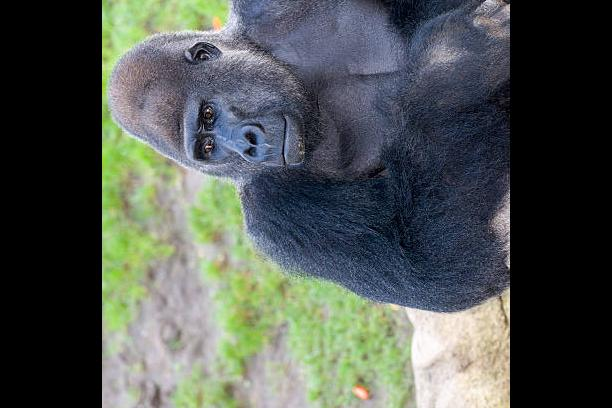gorille_Autres: (113, 0, 508, 297)
